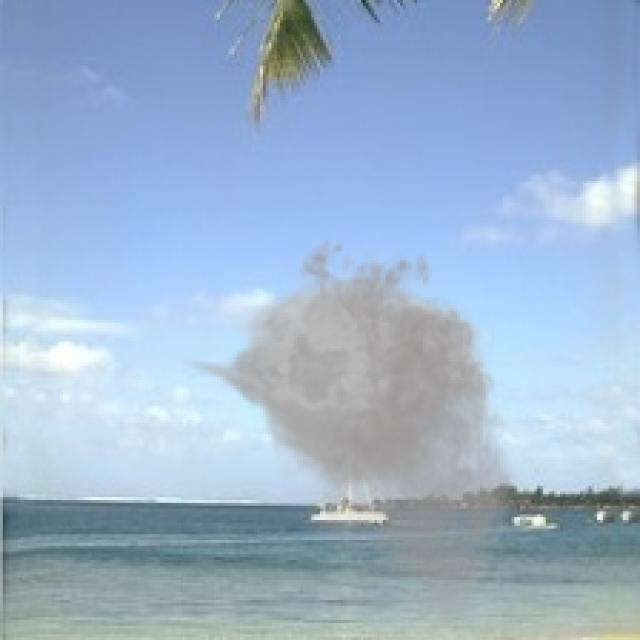Smoke: (179, 226, 532, 634)
